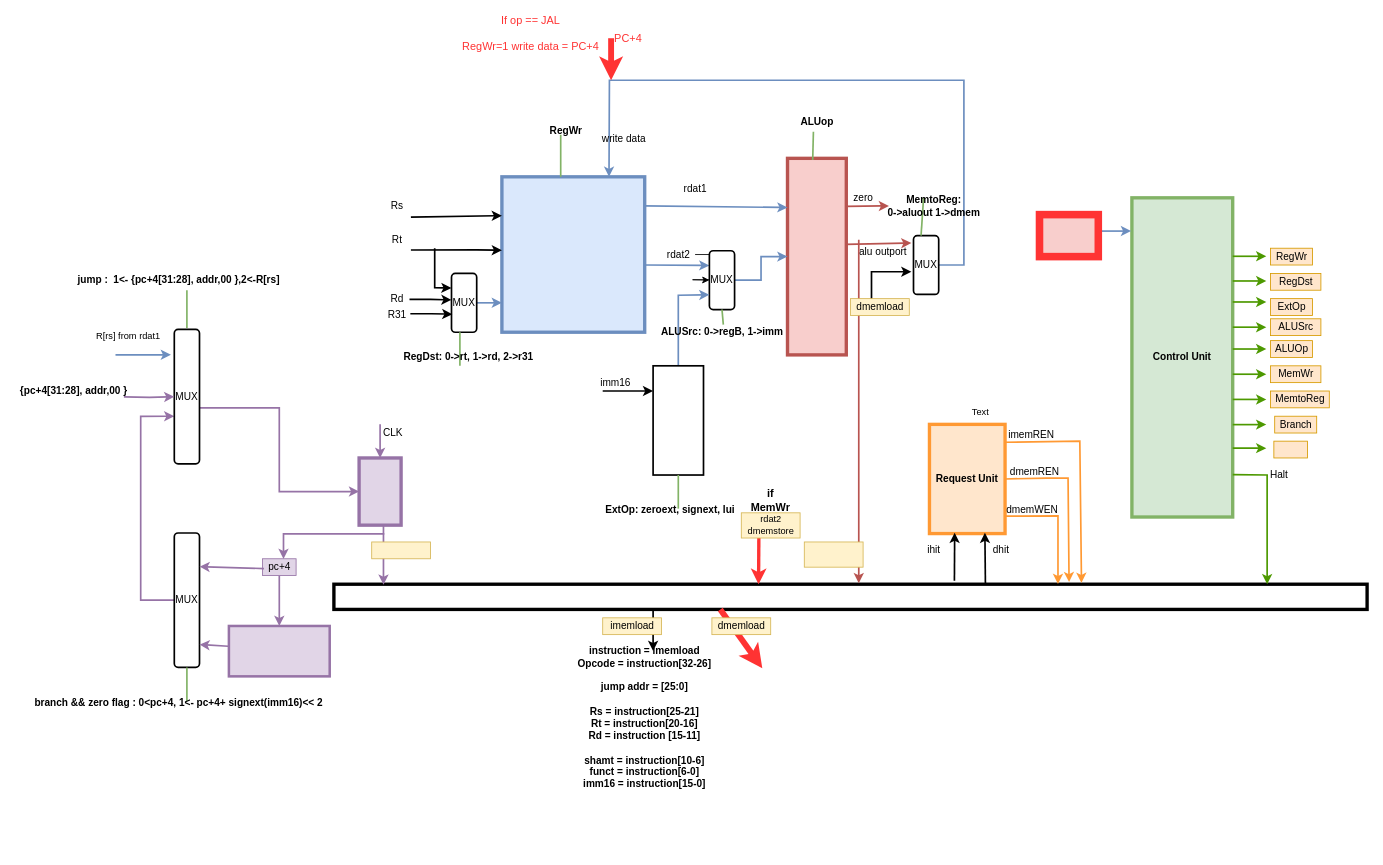
This 1383x865 diagram has some shape labels left out. Here are the shapes that lost their labels. From the top down, the box of each, then its label:
(500, 175, 646, 333): Register File
(1035, 210, 1102, 260): Instruction: opcode funct
(785, 156, 848, 356): ALU
(652, 365, 704, 475): Extender
(1273, 440, 1307, 458): Jump
(357, 456, 402, 526): PC
(371, 541, 430, 559): imemaddr
(803, 541, 863, 567): alu outport dmemaddr
(332, 582, 1368, 611): Cache
(227, 624, 331, 677): pc+4+ {imm_ext[29:0],2'b0}
